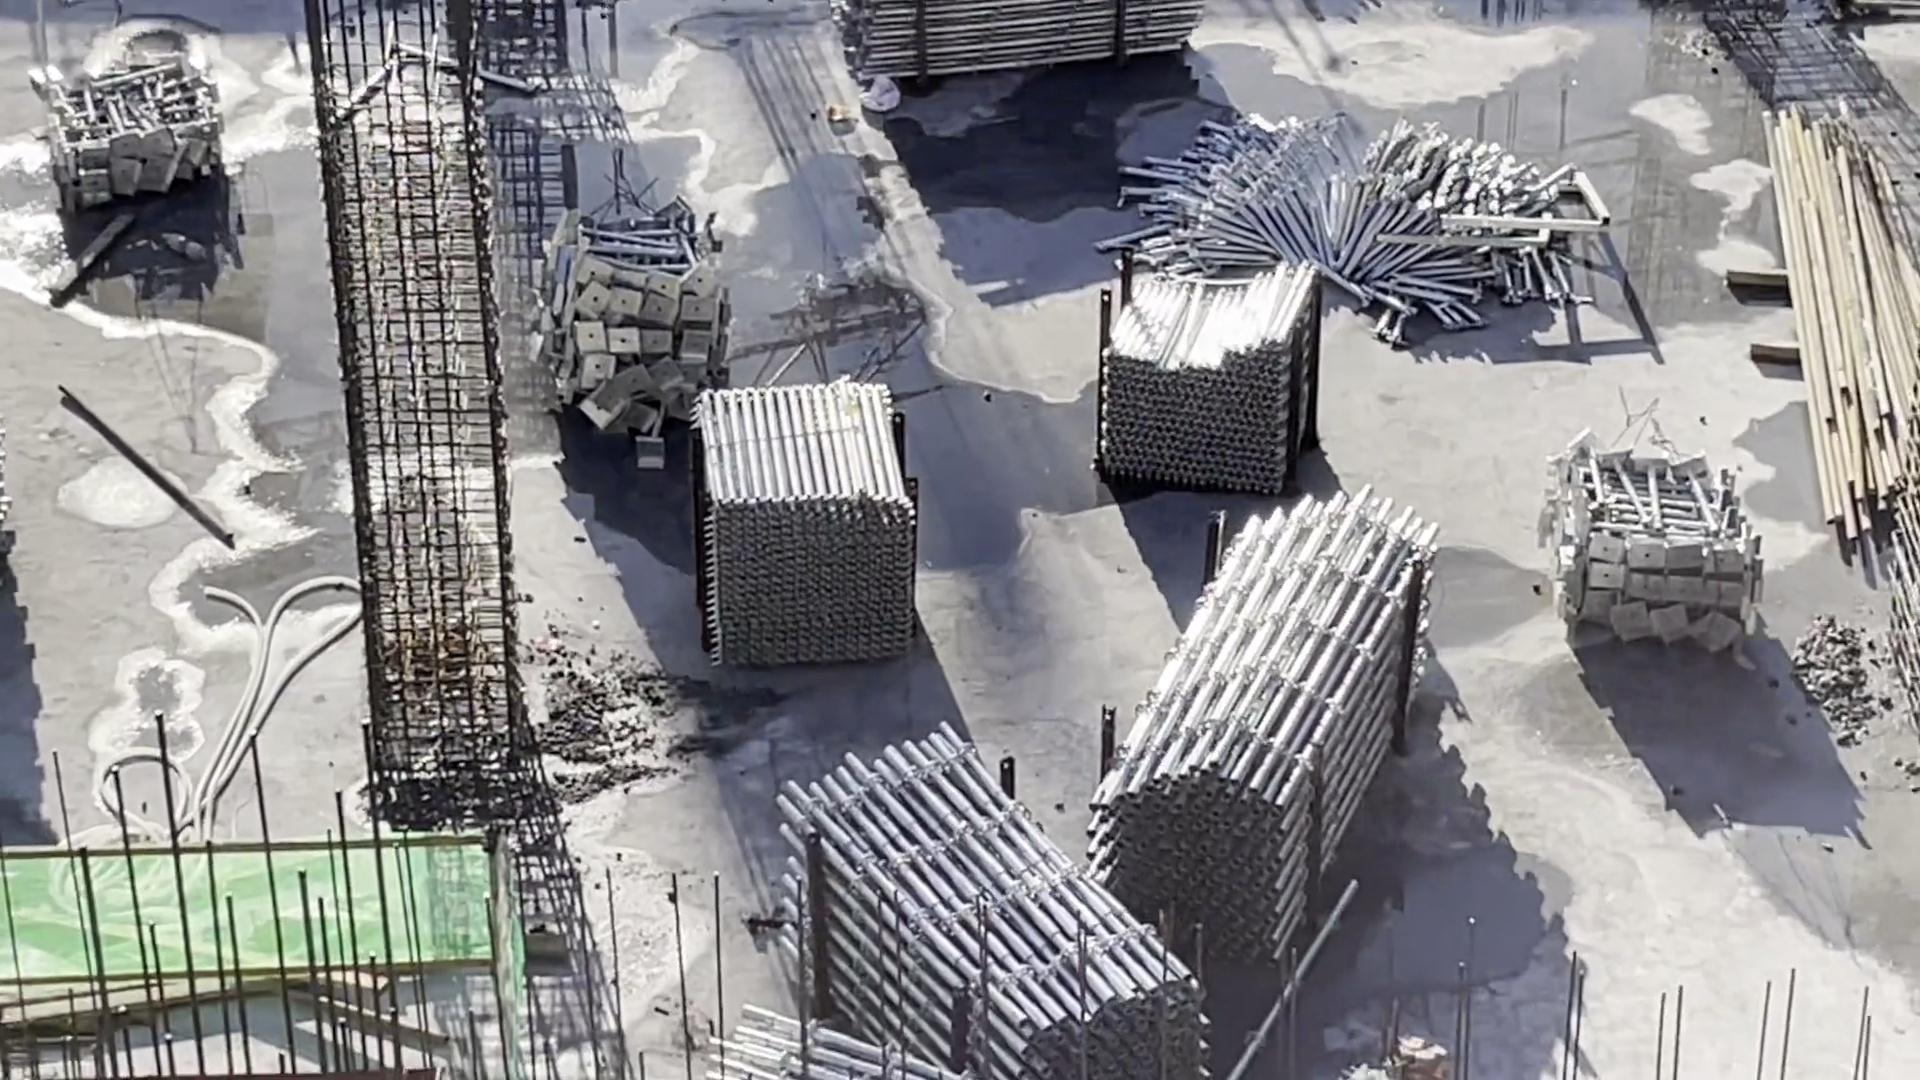scaffold: (767, 735, 1207, 1080), (1095, 516, 1437, 926), (1145, 105, 1553, 332), (699, 388, 934, 669), (530, 216, 764, 436), (1553, 440, 1739, 662), (1114, 281, 1305, 495), (837, 11, 1216, 94), (36, 55, 237, 189)
